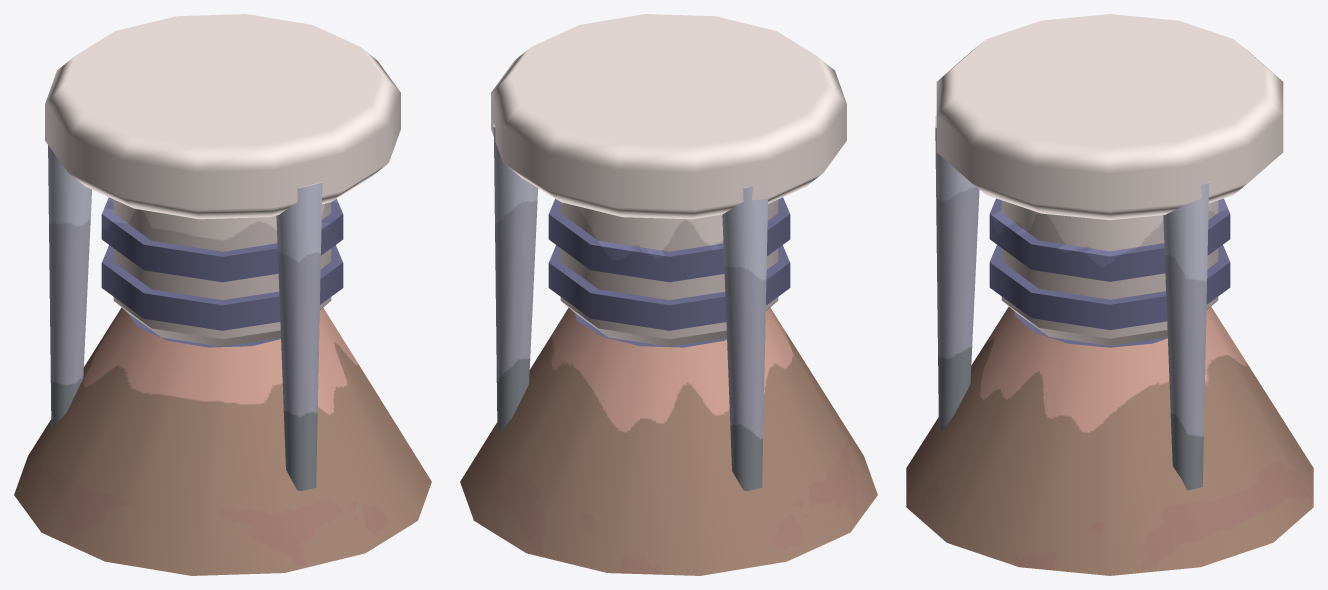
The model's file is R4X_JumpDrive_LOD1.glb.
The picture shows the model from 3 angles, left to right: view 1: azimuth 30°, elevation 25°; view 2: azimuth 150°, elevation 25°; view 3: azimuth 270°, elevation 25°; orthographic projection.
Parts seen in each view (by area): view 1: R4X_JumpDrive_LOD1; view 2: R4X_JumpDrive_LOD1; view 3: R4X_JumpDrive_LOD1.
Part boxes in pixels (x1,y1,x2,y2): R4X_JumpDrive_LOD1: [14, 14, 431, 575]; R4X_JumpDrive_LOD1: [460, 14, 877, 575]; R4X_JumpDrive_LOD1: [906, 14, 1313, 575].
Bounding box in the file's own units: 0.47 × 0.51 × 0.4582.
Materials: 5 (4 with a texture image).
